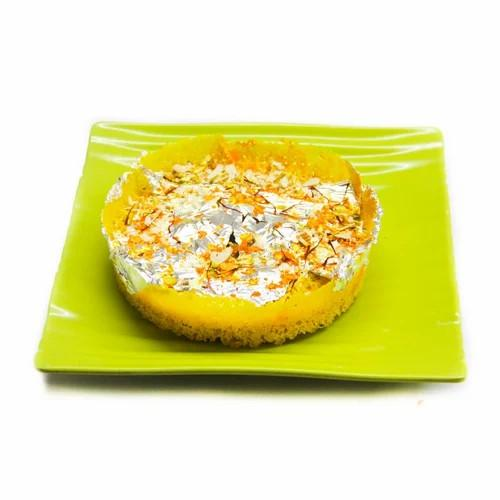Ghevar: (100, 133, 379, 341)
